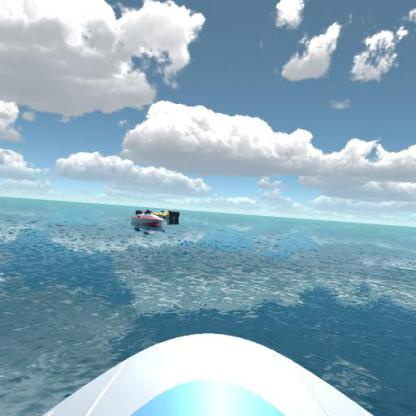usv2: (152, 202, 186, 223)
usv3: (129, 206, 166, 230)
